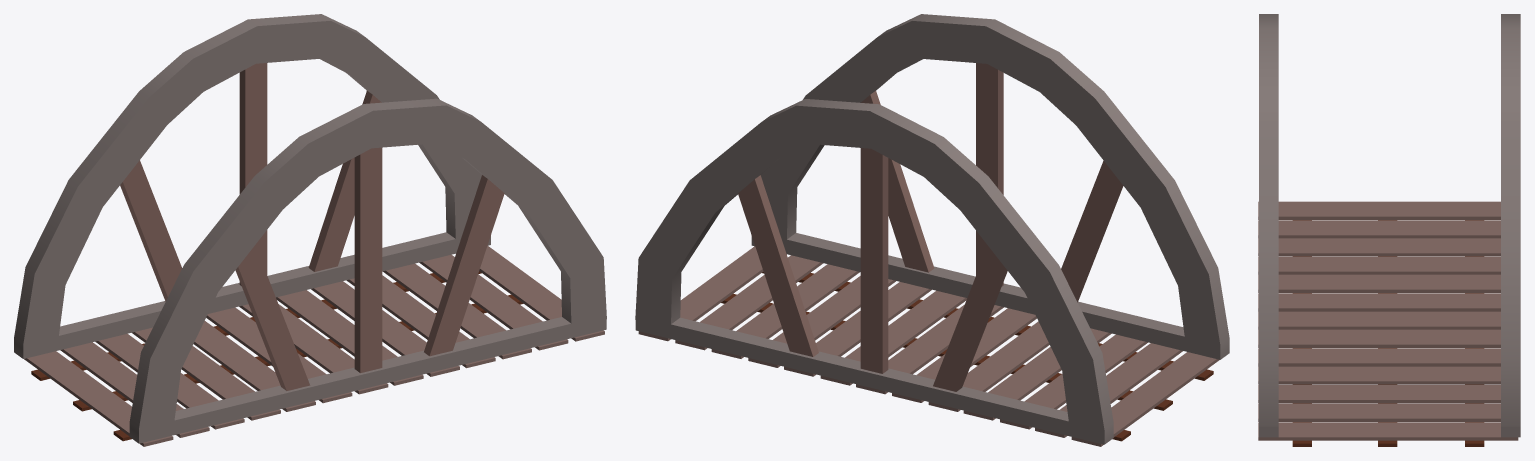
The model's file is west_bridge.fbx.
3 renders of one model, left to right at view 1: azimuth 30°, elevation 25°; view 2: azimuth 150°, elevation 25°; view 3: azimuth 270°, elevation 25°, orthographic. The views are drawn at different scales.
Visible parts, largest first — view 1: pCube26; view 2: pCube26; view 3: pCube26.
Part boxes in pixels (bbox=[...]): pCube26: bbox=[14, 14, 606, 446]; pCube26: bbox=[635, 14, 1229, 446]; pCube26: bbox=[1258, 14, 1520, 446].
Bounding box in the file's own units: 6.54 × 3.81 × 3.03.
